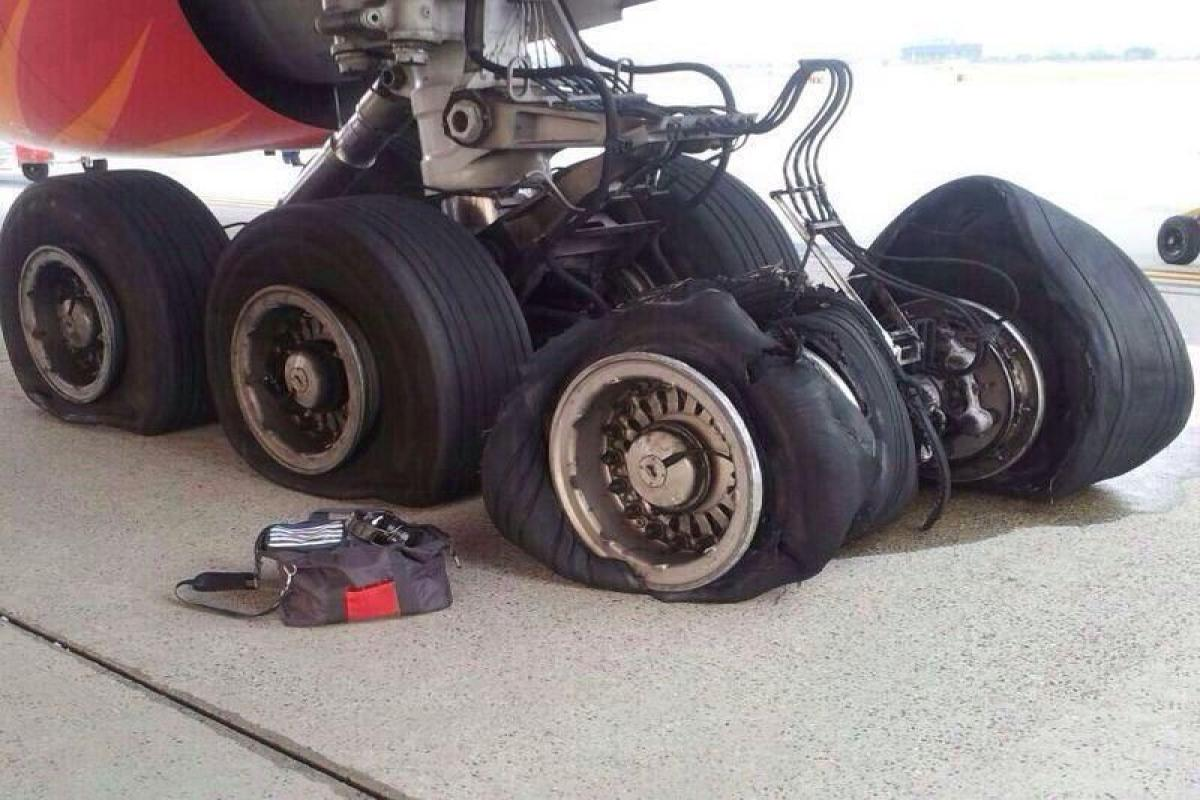Fuselage_damage: (471, 259, 915, 614), (823, 158, 1196, 532), (190, 182, 487, 510), (0, 157, 212, 461)
